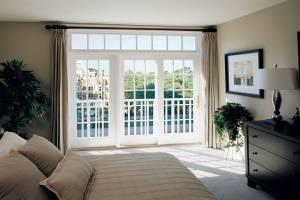window: (56, 23, 210, 150)
